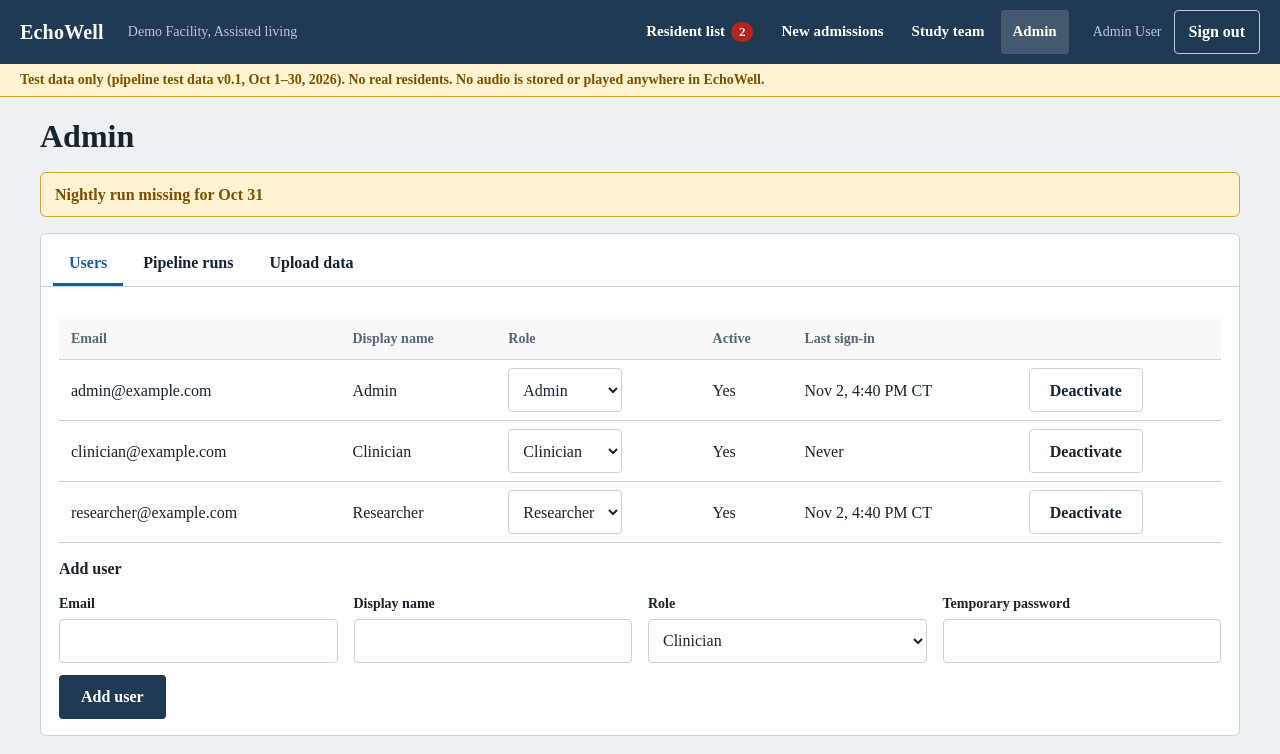
Test: /admin › Users › asks before deactivating and sends PATCH (AC-05)
The image size is (1280, 754).
Step 1. Click the button with aria-label "Deactivate clinician@example.com" → coordinates (1086, 451), box [1029,429,1143,473]
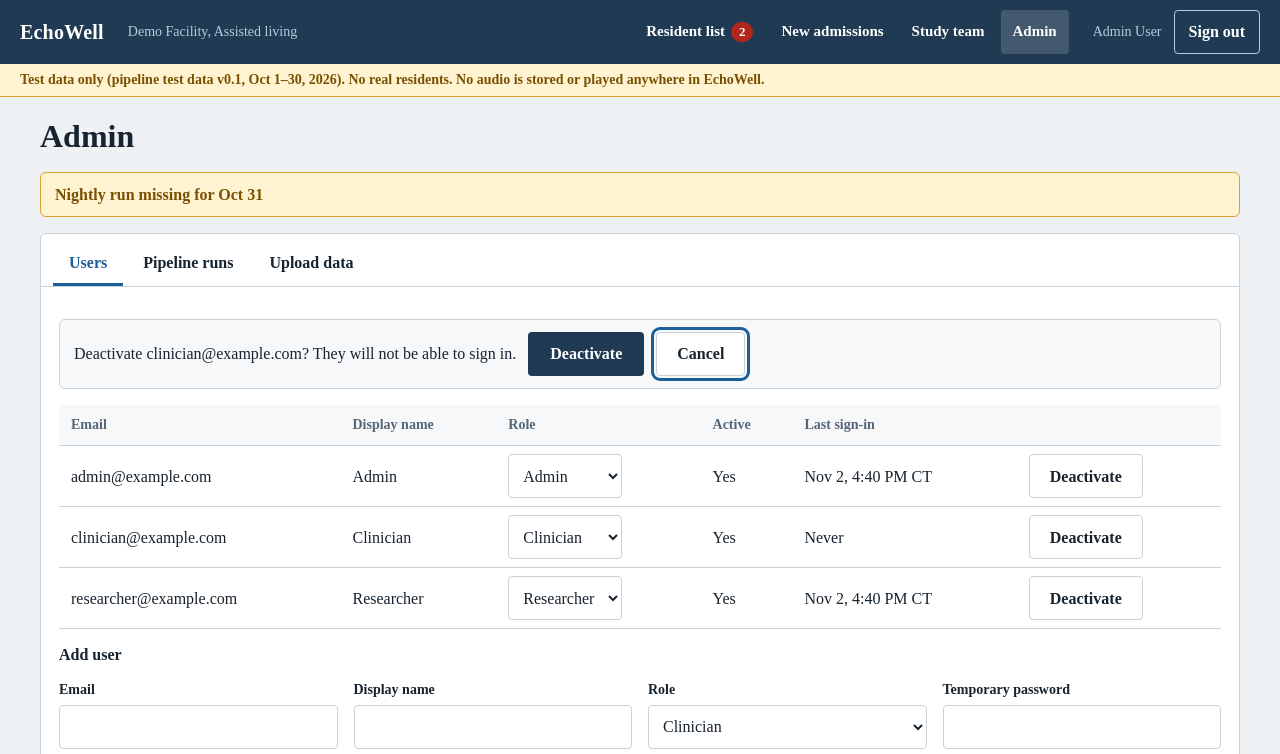
Result: the dialog shows "Deactivate clinician@example.com? They will not be able to sign in." at [74,345,516,362]
Step 2. Click the button "Cancel" → coordinates (701, 354), box [656,332,745,376]
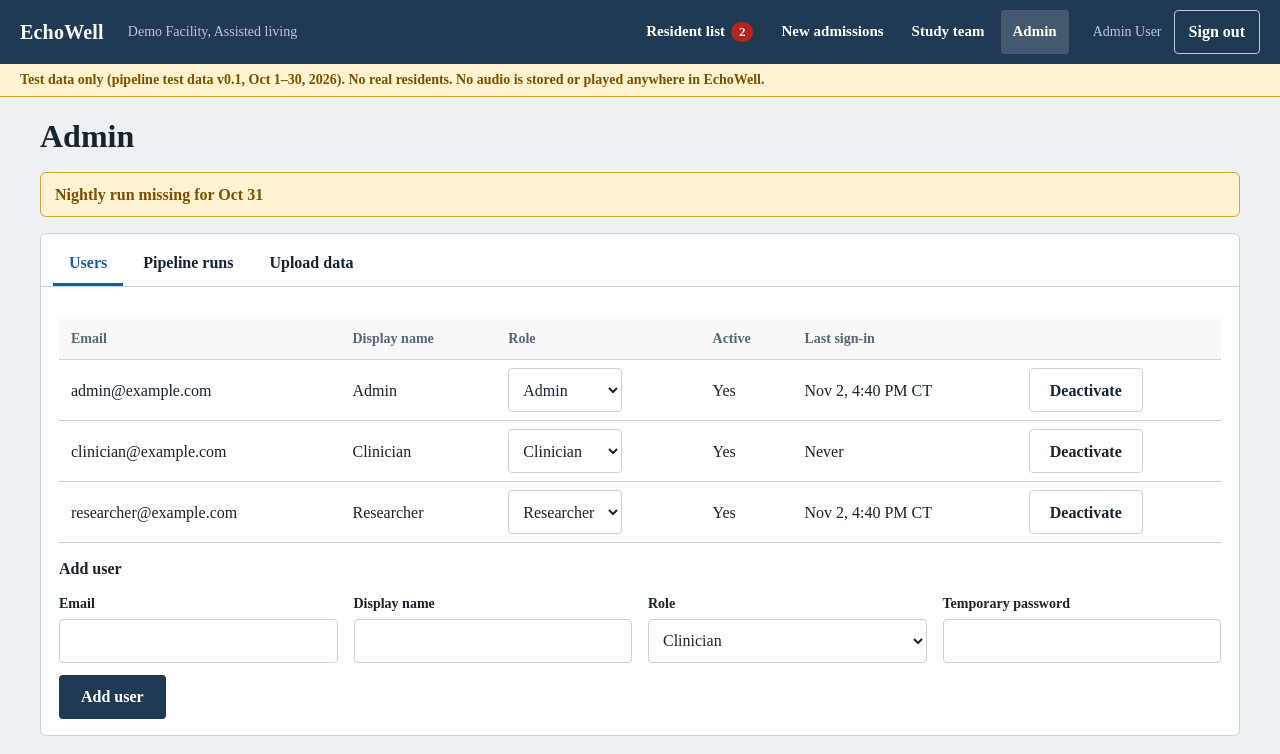
Result: the dialog is gone
Step 3. Click the button with aria-label "Deactivate clinician@example.com" → coordinates (1086, 451), box [1029,429,1143,473]
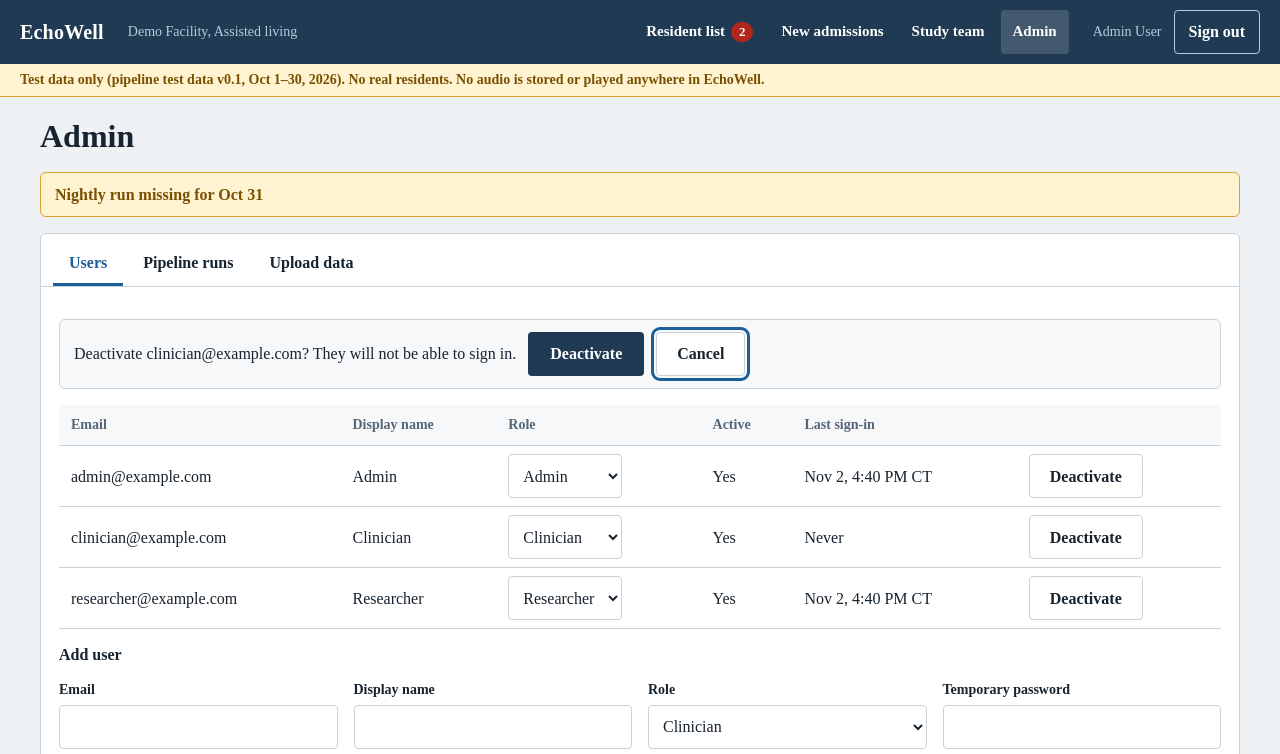
Step 4. Click the 1st button "Deactivate" → coordinates (586, 354), box [528,332,644,376]
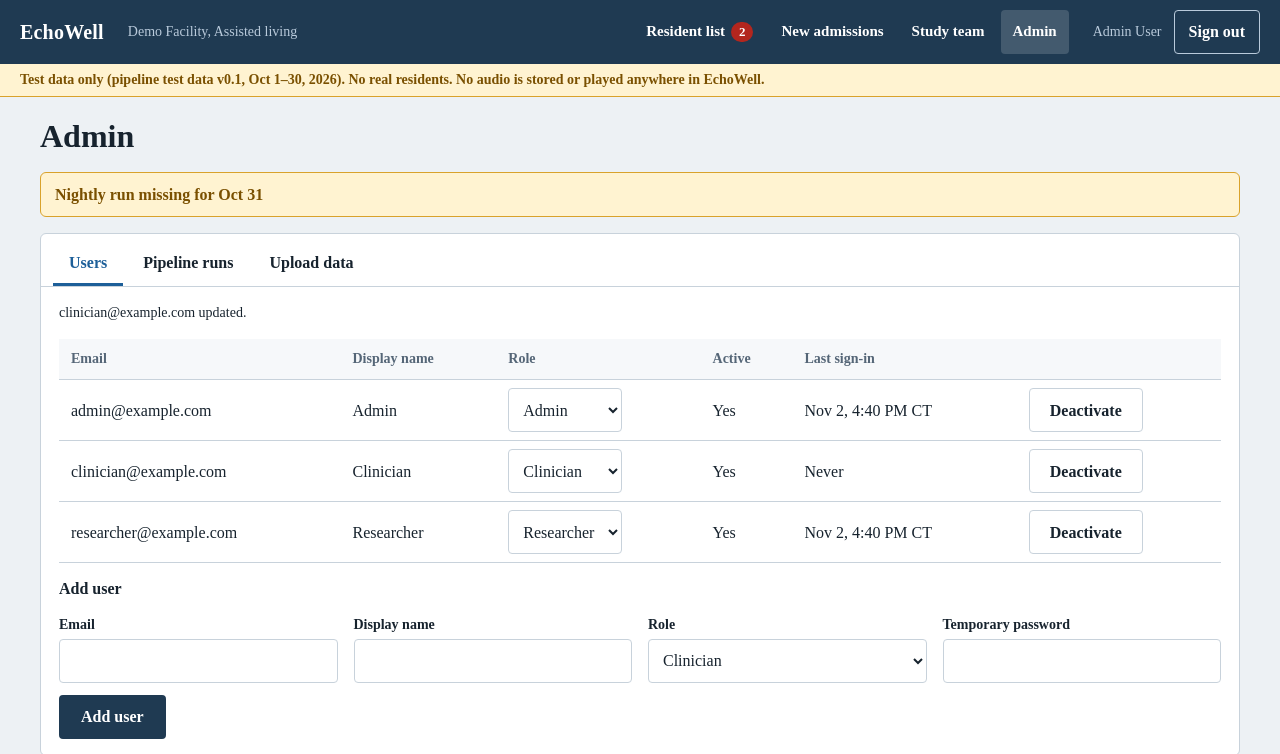
Result: the text "clinician@example.com updated." is shown at [59,305,246,320]
